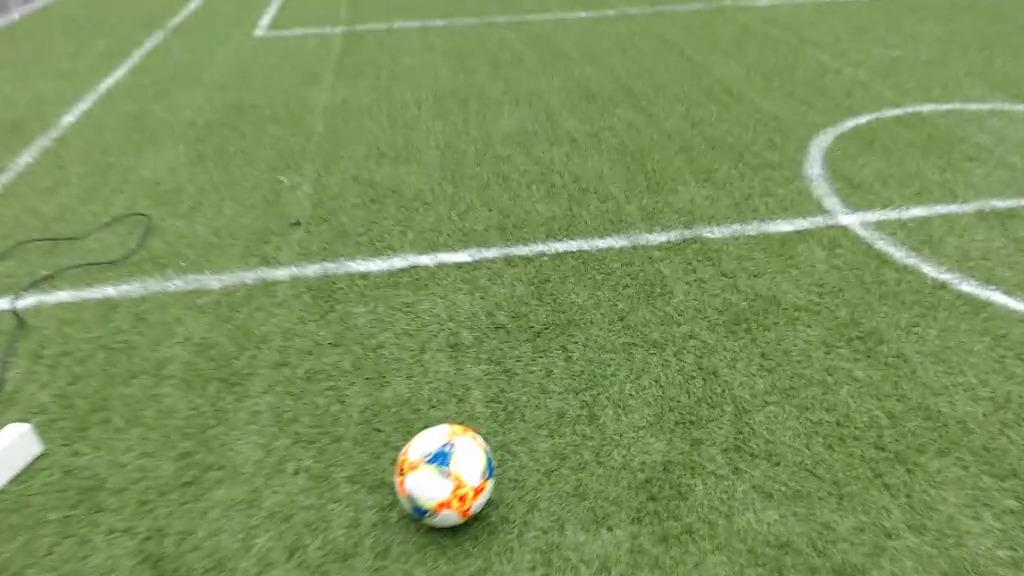ball: (397, 422, 493, 529)
